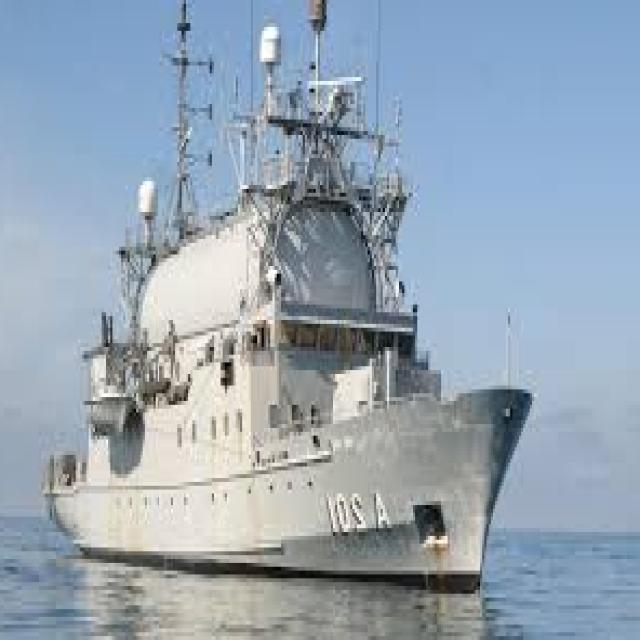navalvessels: (44, 25, 538, 606)
